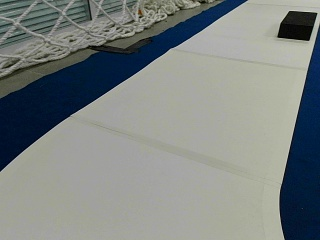block: (278, 10, 317, 39)
